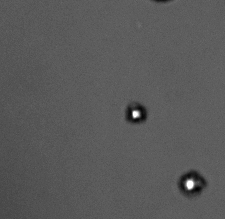Living Cell: (179, 171, 203, 195), (126, 103, 146, 123)
